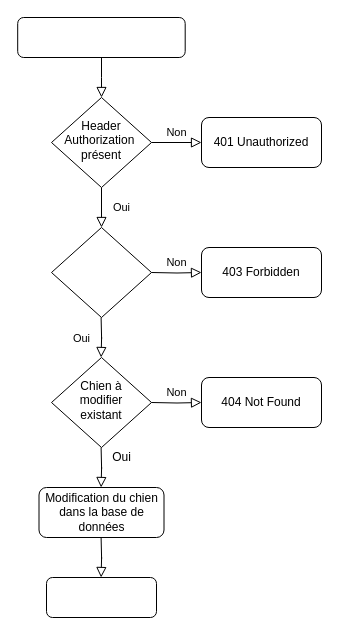
Image size: 339x635. Some labels were removed from this diagram. Each missing label, with the box of its shape:
200 OK: (46, 576, 156, 618)
PATCH api/v1/dogs/{idDog}: (17, 16, 185, 58)
Utilisateur administrateur: (50, 226, 152, 318)
